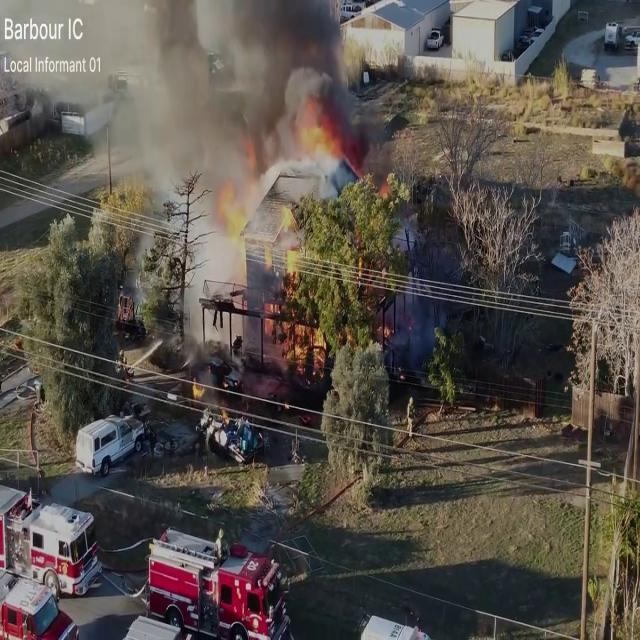Smoke: (84, 0, 374, 211)
